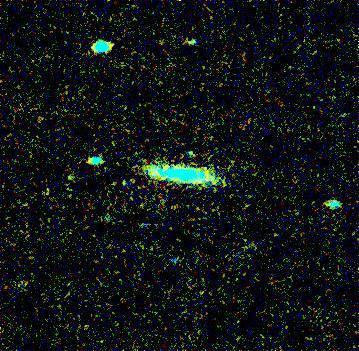star: (119, 166, 149, 196)
